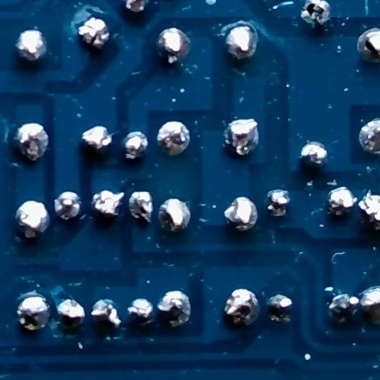?: (223, 118, 262, 155), (129, 185, 153, 224), (301, 142, 330, 169), (330, 291, 358, 318), (129, 295, 155, 323), (359, 118, 380, 152)
drag: (15, 121, 50, 160), (158, 197, 192, 235), (226, 287, 259, 323), (327, 185, 356, 215), (267, 190, 292, 218), (125, 0, 149, 13)
little: (160, 291, 195, 329), (92, 297, 121, 328), (302, 0, 332, 29), (120, 130, 148, 160)
norm: (155, 26, 192, 67), (16, 293, 50, 331), (17, 198, 47, 240), (225, 23, 259, 59), (221, 196, 256, 230), (157, 121, 190, 153), (17, 29, 47, 62), (265, 289, 294, 320), (93, 188, 124, 217), (56, 297, 85, 327), (54, 191, 82, 220), (361, 284, 380, 319), (361, 30, 380, 61)
tip: (77, 14, 112, 48), (359, 191, 380, 232)
